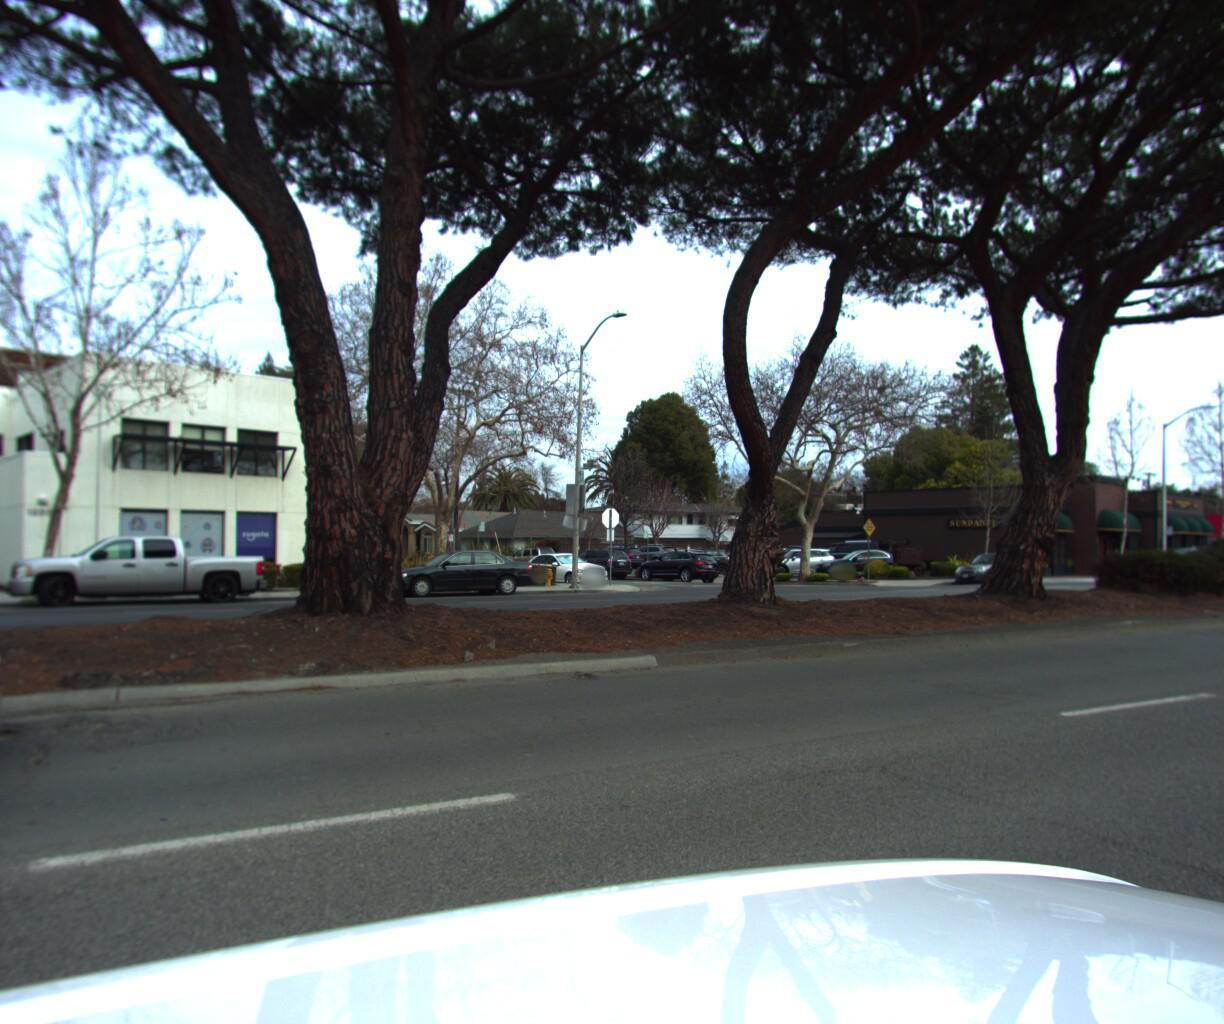car: (364, 545, 537, 600), (511, 547, 613, 587), (630, 545, 721, 583), (807, 544, 907, 577), (945, 547, 1032, 584), (555, 544, 635, 579), (750, 543, 837, 575), (497, 545, 556, 570)
